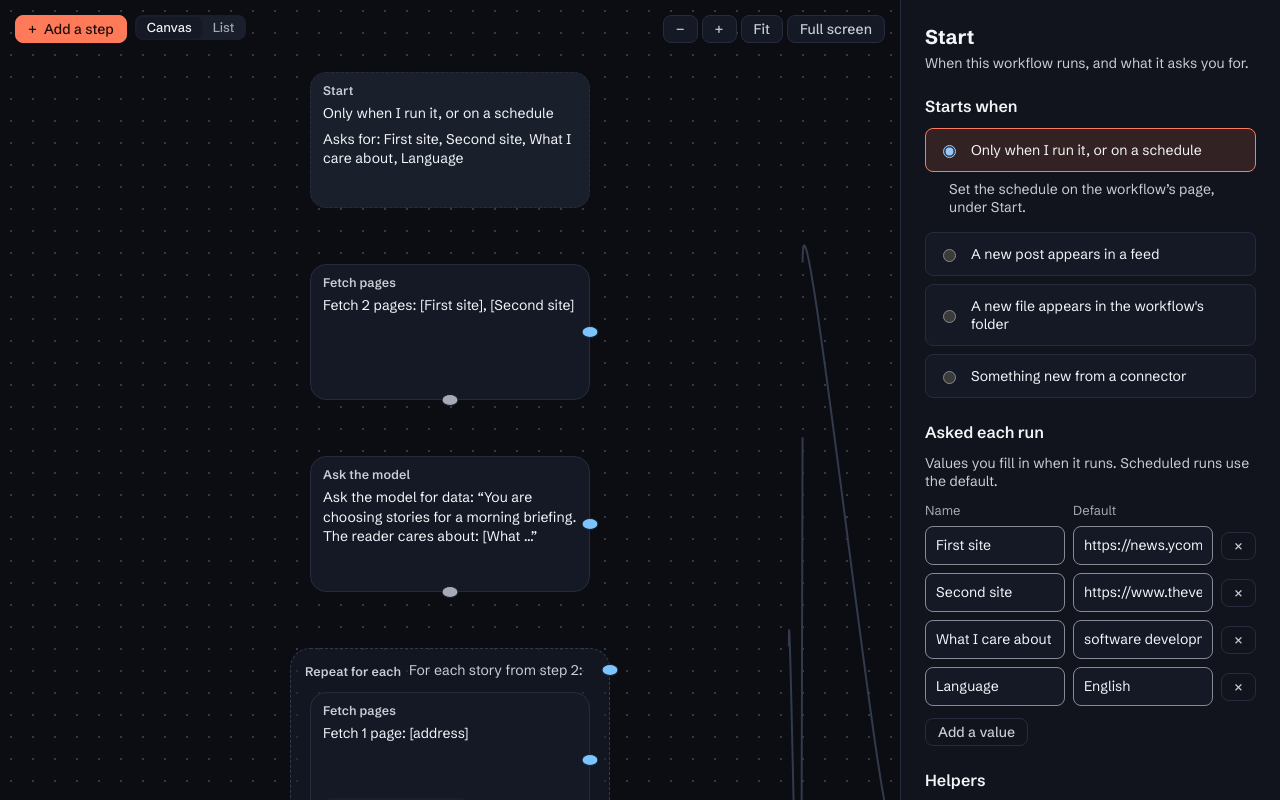
Test: editing on the canvas › keeps the failure settings collapsed, saying what happens now
The width and height of the screenshot is (1280, 800).
Click the element showing "Fetch pages Fetch 2 pages: [First site], [Second site]": point(450, 332) left=310, top=264, right=590, bottom=400
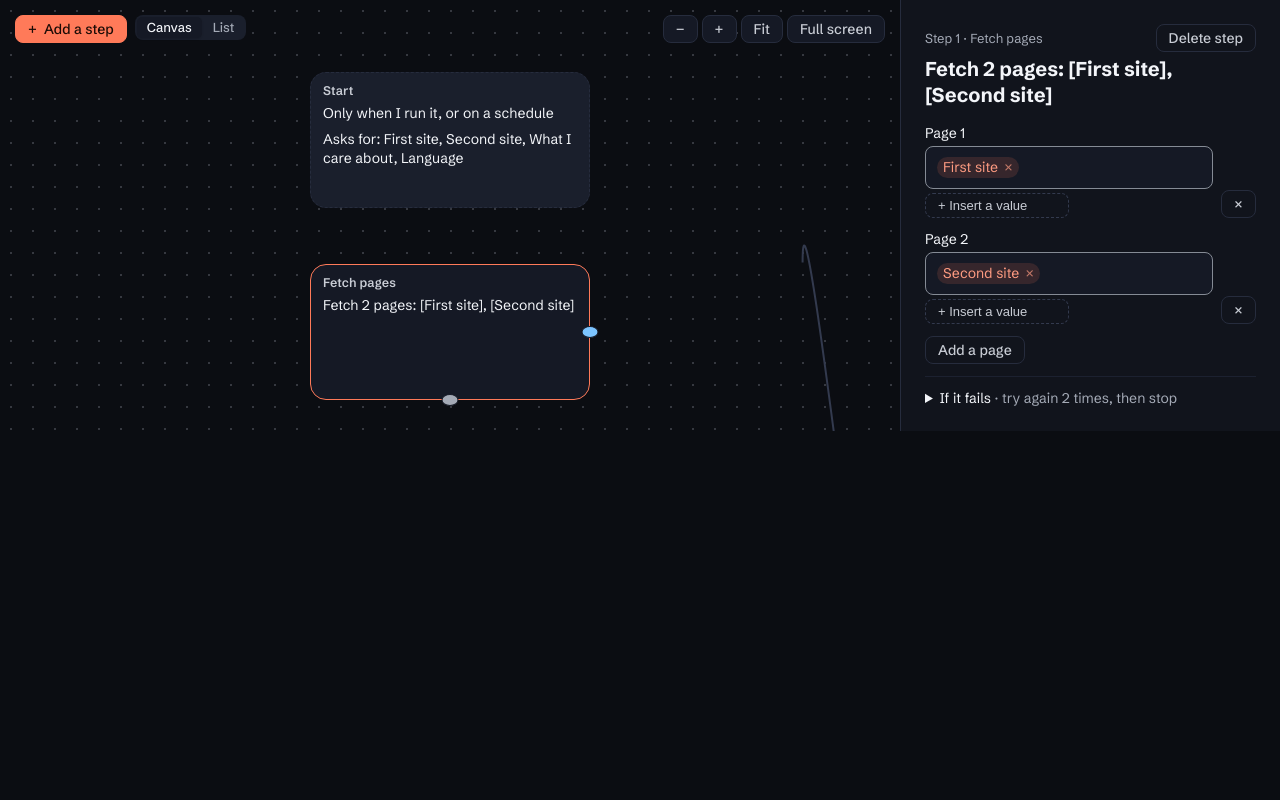
Result: the text "try again 2 times, then stop" is shown at left=995, top=389, right=1177, bottom=407
